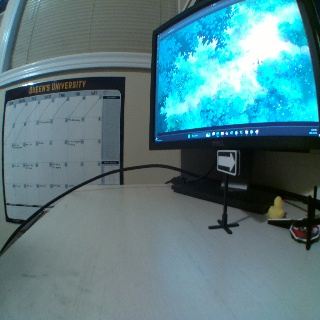sign_oneway_right: (216, 149, 239, 177)
